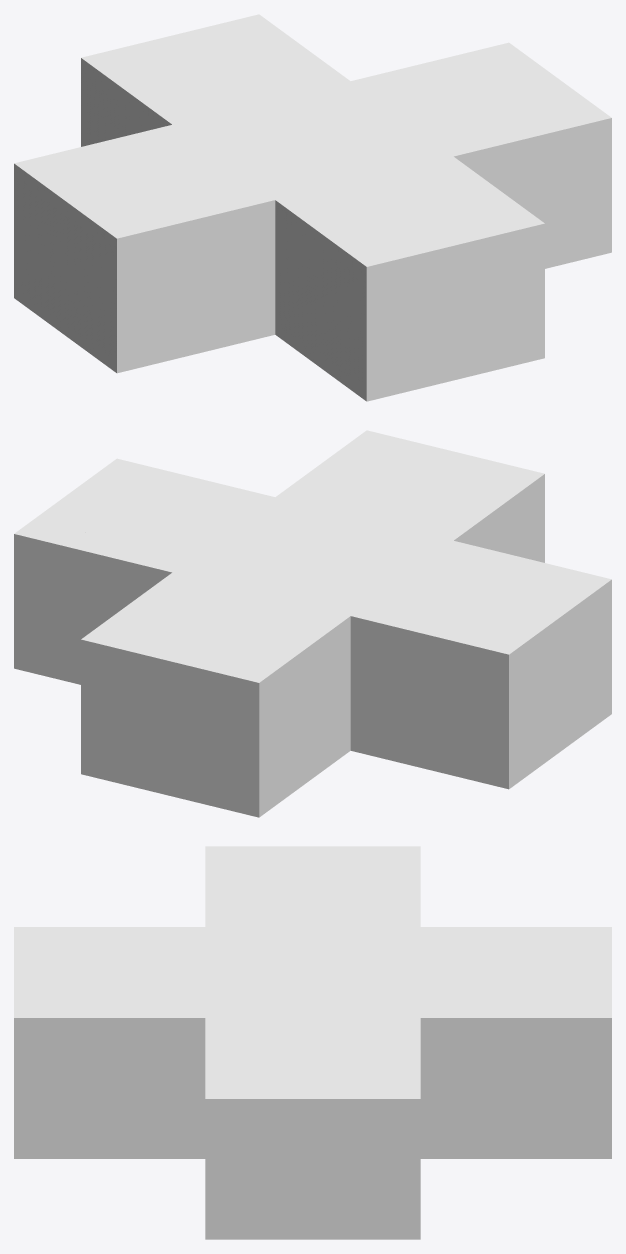
The model's file is Gallery.DAE.
3 views of the same model, one above another, from view 1: azimuth 30°, elevation 25°; view 2: azimuth 150°, elevation 25°; view 3: azimuth 270°, elevation 25° (orthographic). The views are drawn at different scales.
Visible parts, largest first — view 1: Floor Generic Floor - 400mm [425891], Floor Generic Floor - 800 [425969], Basic Wall Generic - 200mm [425437], Basic Wall Generic - 200mm [425791], Basic Wall Generic - 200mm [425486], Basic Wall Generic - 200mm [425793], Basic Wall Generic - 200mm [425790], Floor Generic Floor - 400mm [425259], Basic Wall Generic - 200mm [425612], Basic Wall Generic - 200mm [425402]; view 2: Floor Generic Floor - 400mm [425891], Floor Generic Floor - 800 [425969], Basic Wall Generic - 200mm [425360], Basic Wall Generic - 200mm [425697], Basic Wall Generic - 200mm [425486], Basic Wall Generic - 200mm [425750], Basic Wall Generic - 200mm [425612], Floor Generic Floor - 400mm [425259], Basic Wall Generic - 200mm [425790], Basic Wall Generic - 200mm [425402]; view 3: Floor Generic Floor - 400mm [425891], Basic Wall Generic - 200mm [425402], Basic Wall Generic - 200mm [425749], Basic Wall Generic - 200mm [425792], Floor Generic Floor - 800 [425969], Floor Generic Floor - 400mm [425259], Basic Wall Generic - 200mm [425360], Basic Wall Generic - 200mm [425437].
Part boxes in pixels (x1,y1,x2,y2): Floor Generic Floor - 400mm [425891]: (14,14,611,280); Floor Generic Floor - 800 [425969]: (66,36,559,244); Basic Wall Generic - 200mm [425437]: (363,237,544,387); Basic Wall Generic - 200mm [425791]: (123,214,275,357); Basic Wall Generic - 200mm [425486]: (14,177,123,359); Basic Wall Generic - 200mm [425793]: (468,133,605,254); Basic Wall Generic - 200mm [425790]: (275,214,362,384); Floor Generic Floor - 400mm [425259]: (14,239,611,401); Basic Wall Generic - 200mm [425612]: (84,74,157,145); Basic Wall Generic - 200mm [425402]: (605,132,611,240); Floor Generic Floor - 400mm [425891]: (14,430,611,696); Floor Generic Floor - 800 [425969]: (66,454,559,660); Basic Wall Generic - 200mm [425360]: (81,653,262,803); Basic Wall Generic - 200mm [425697]: (350,630,502,773); Basic Wall Generic - 200mm [425486]: (502,593,611,775); Basic Wall Generic - 200mm [425750]: (20,549,157,670); Basic Wall Generic - 200mm [425612]: (263,630,350,800); Floor Generic Floor - 400mm [425259]: (14,655,611,817); Basic Wall Generic - 200mm [425790]: (468,490,541,561); Basic Wall Generic - 200mm [425402]: (14,548,20,656); Floor Generic Floor - 400mm [425891]: (14,846,611,1113); Basic Wall Generic - 200mm [425402]: (205,1113,420,1225); Basic Wall Generic - 200mm [425749]: (420,1032,603,1144); Basic Wall Generic - 200mm [425792]: (22,1032,205,1144); Floor Generic Floor - 800 [425969]: (54,863,571,1081); Floor Generic Floor - 400mm [425259]: (14,1144,611,1239); Basic Wall Generic - 200mm [425360]: (604,1032,611,1144); Basic Wall Generic - 200mm [425437]: (14,1032,21,1144).
Bounding box in the file's own units: 1500 × 390 × 1500.
